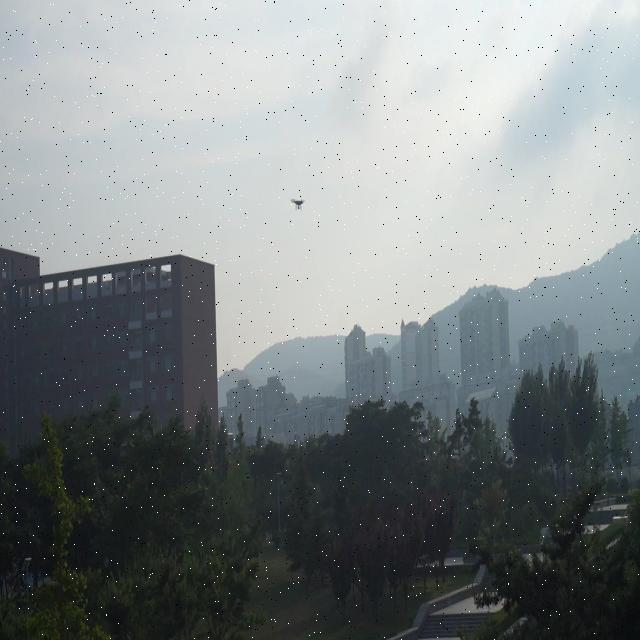UAV: (290, 198, 306, 210)
